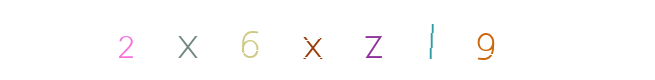2: (115, 0, 195, 80)
6: (266, 0, 346, 80)
9: (374, 0, 454, 80)
L: (333, 0, 413, 80)
X: (255, 0, 335, 80), (284, 0, 364, 80)
Z: (287, 0, 367, 80)
